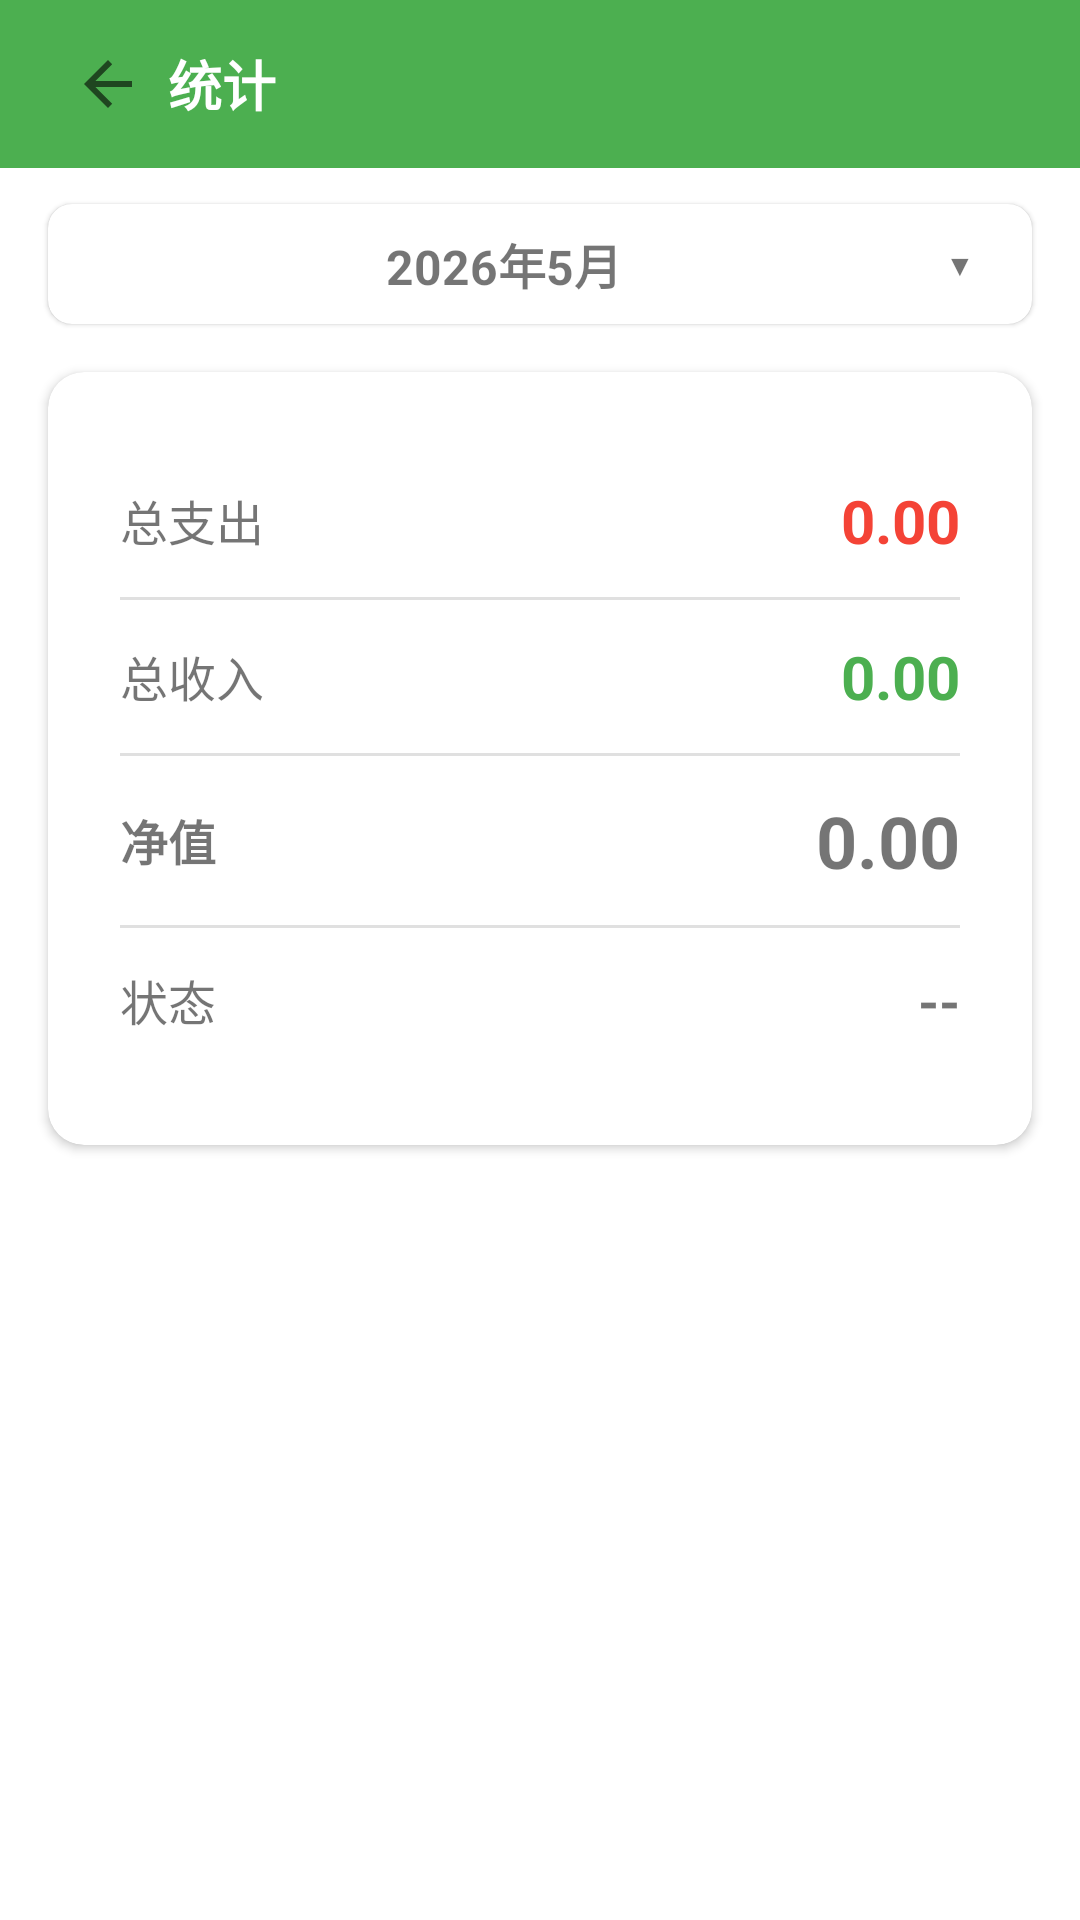

Point at icon controls on the screen. Image size 1080 × 1920, points as (x,y).
返回: (108,84)
